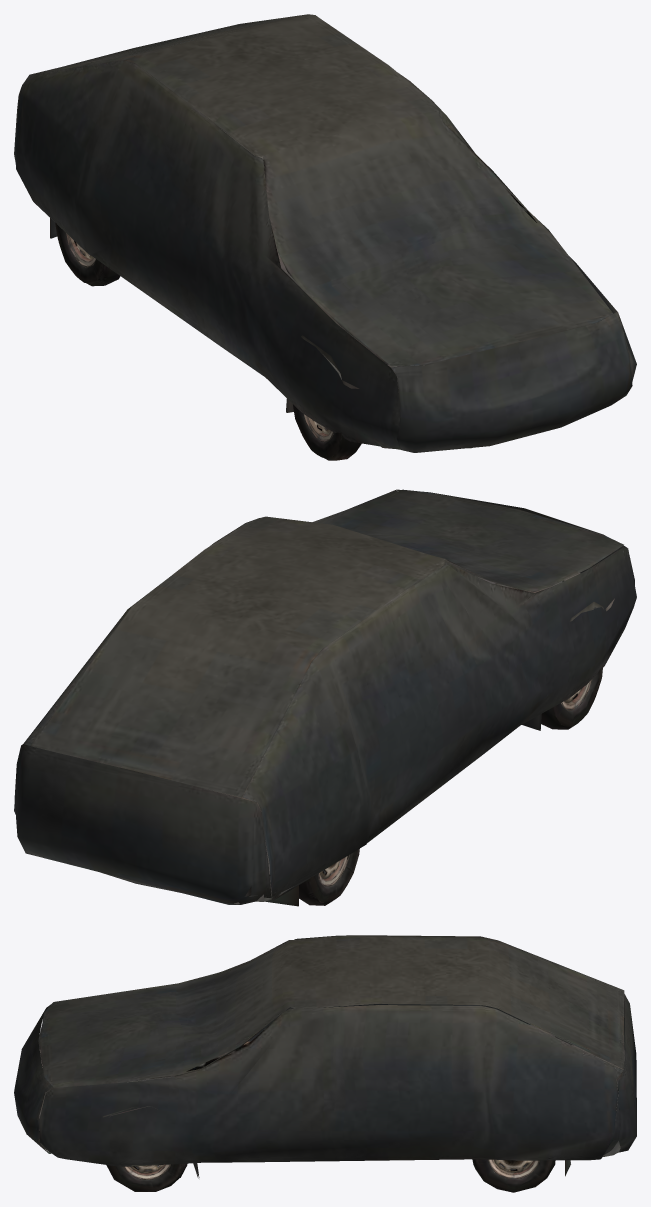
Rendered from covered_car.glb.
3 renders of one model, top to bottom at view 1: azimuth 30°, elevation 25°; view 2: azimuth 150°, elevation 25°; view 3: azimuth 270°, elevation 25°, orthographic. The views are drawn at different scales.
Visible parts, largest first — view 1: covered_car, covered_car_wheel_02, covered_car_wheel_03; view 2: covered_car, covered_car_wheel_03, covered_car_wheel_02; view 3: covered_car, covered_car_wheel_04, covered_car_wheel_01.
Part boxes in pixels (bbox=[...]): covered_car: bbox=[14, 14, 636, 452]; covered_car_wheel_02: bbox=[293, 404, 361, 460]; covered_car_wheel_03: bbox=[55, 222, 120, 286]; covered_car: bbox=[14, 489, 636, 906]; covered_car_wheel_03: bbox=[299, 848, 359, 905]; covered_car_wheel_02: bbox=[541, 665, 603, 729]; covered_car: bbox=[14, 935, 636, 1178]; covered_car_wheel_04: bbox=[472, 1159, 555, 1192]; covered_car_wheel_01: bbox=[106, 1163, 187, 1191].
Size of the model in its own units: 1.8 by 1.41 by 4.37.
2 materials, 2 textured.
